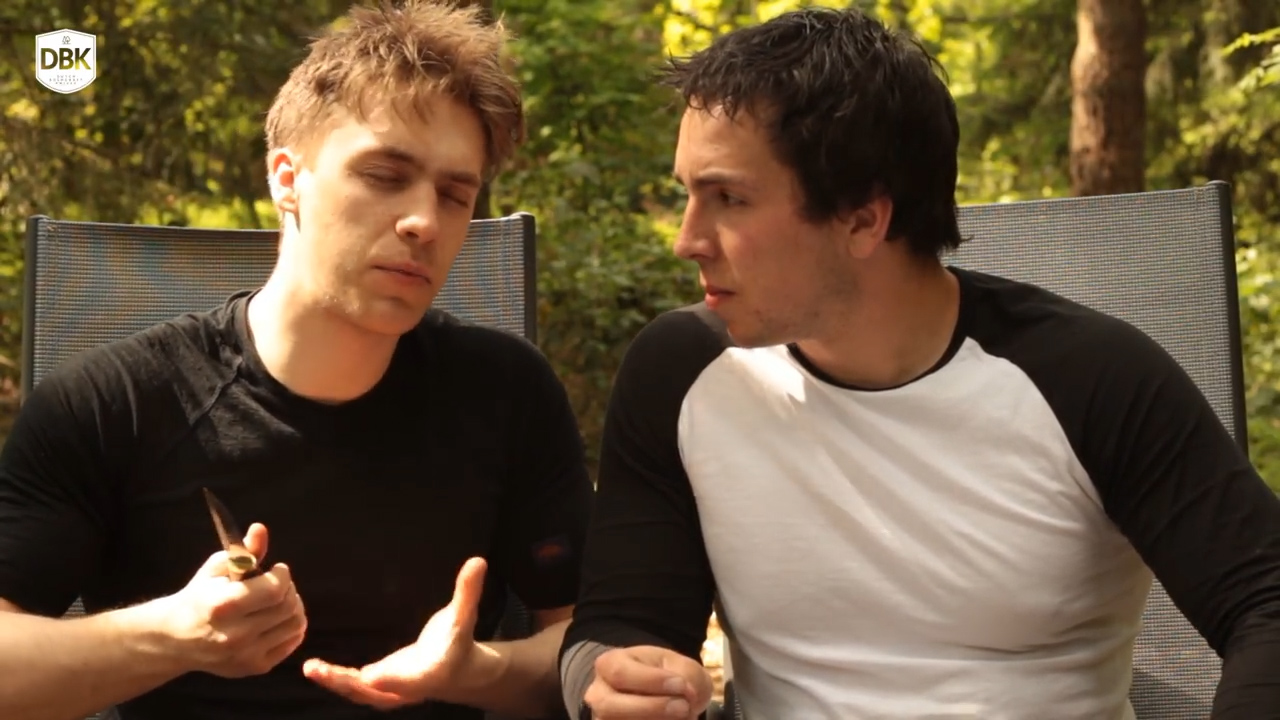knife: (183, 447, 317, 644)
